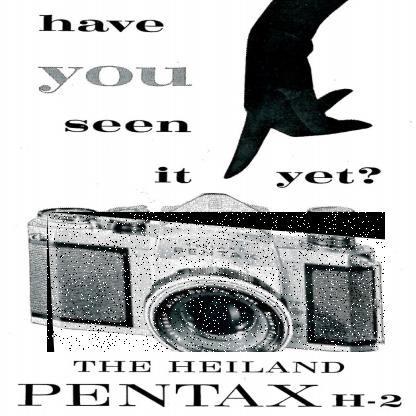Camera: (48, 213, 387, 354)
